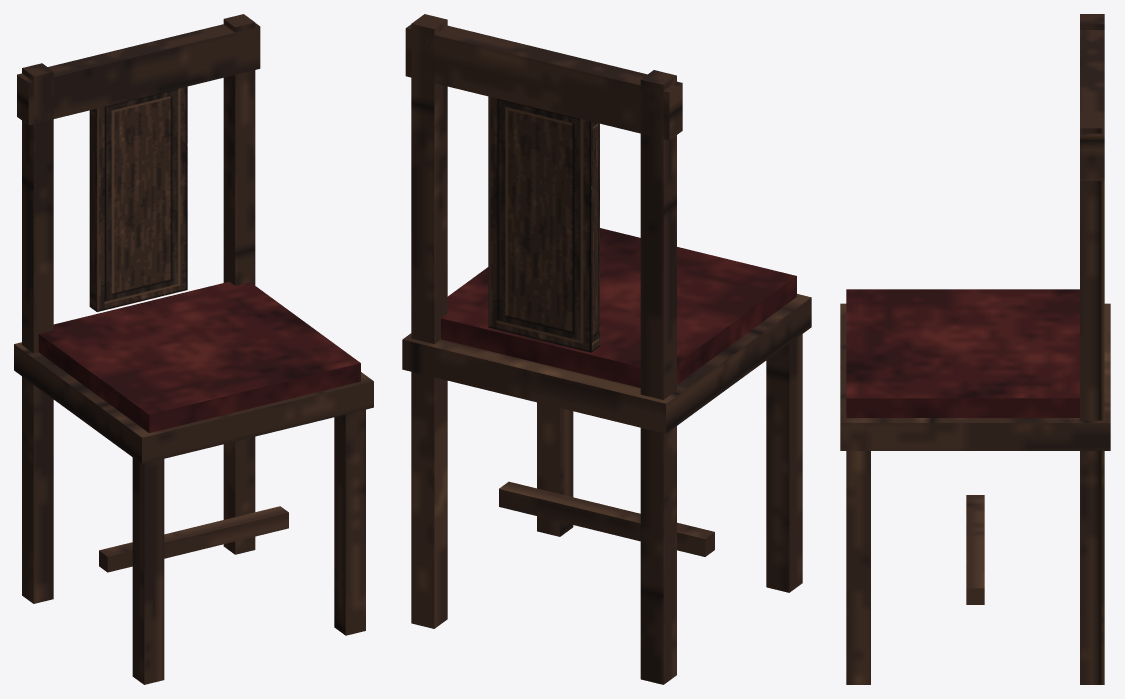
Rendered from Furn_Chair.fbx.
3 renders of one model, left to right at view 1: azimuth 30°, elevation 25°; view 2: azimuth 150°, elevation 25°; view 3: azimuth 270°, elevation 25°, orthographic. The views are drawn at different scales.
Visible parts, largest first — view 1: Furn_Chair; view 2: Furn_Chair; view 3: Furn_Chair.
Boxes of the visible parts, left/top/right/bottom form: Furn_Chair: left=14, top=14, right=373, bottom=684; Furn_Chair: left=402, top=14, right=811, bottom=684; Furn_Chair: left=840, top=14, right=1110, bottom=684.
Size of the model in its own units: 0.46 by 1 by 0.44.
